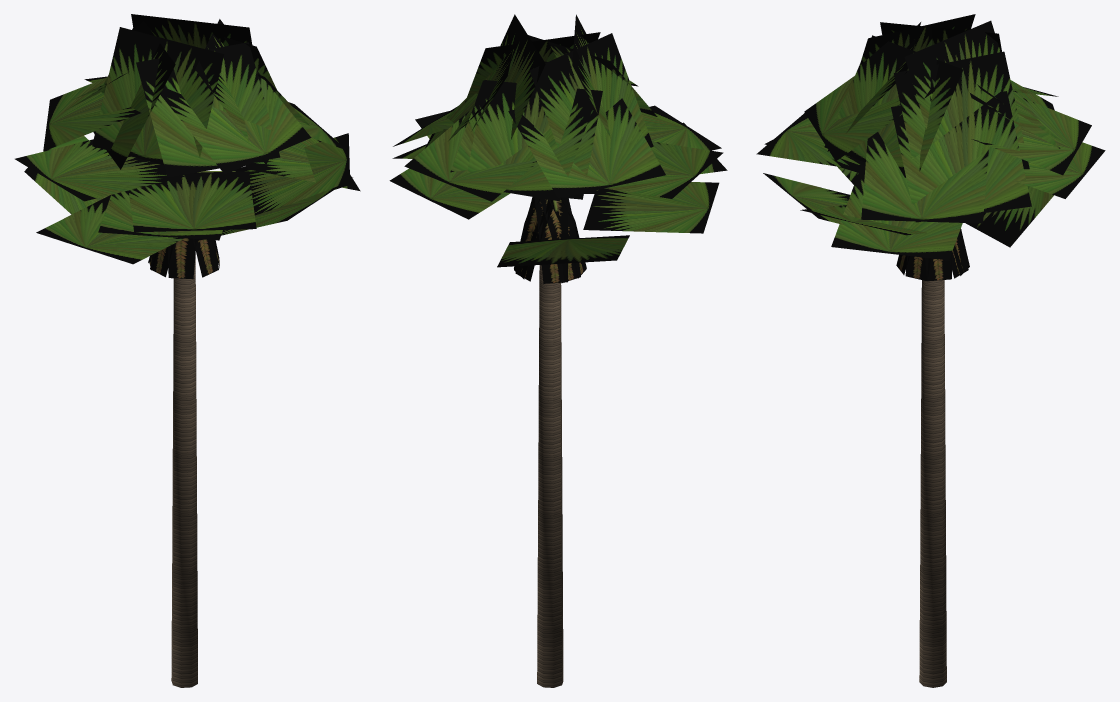
File: palm_palmyrah.glb
3 views of the same model, side by side, from view 1: azimuth 30°, elevation 25°; view 2: azimuth 150°, elevation 25°; view 3: azimuth 270°, elevation 25° (orthographic).
Parts seen in each view (by area): view 1: Palmyrah; view 2: Palmyrah; view 3: Palmyrah.
Part boxes in pixels (x1,y1,x2,y2): Palmyrah: [15, 14, 360, 687]; Palmyrah: [389, 14, 727, 687]; Palmyrah: [756, 14, 1105, 687].
Size of the model in its own units: 6.87 by 14.09 by 6.86.
4 materials, 3 textured.
